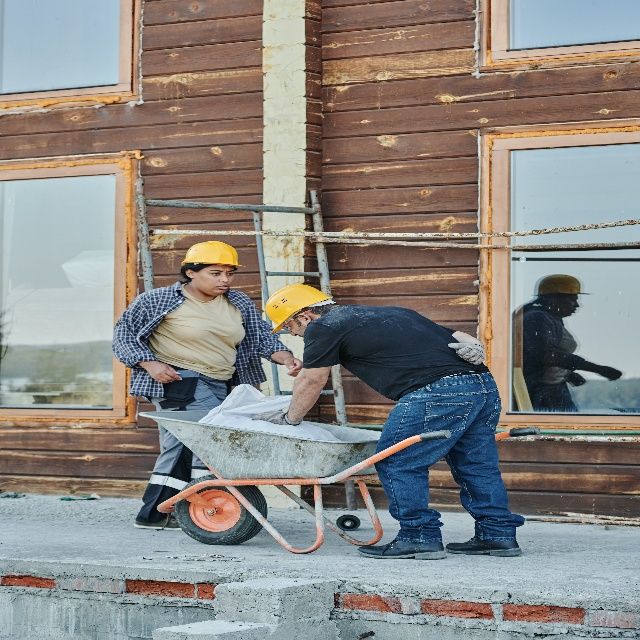Gafas: (281, 309, 311, 332)
Guantes: (447, 342, 486, 365), (251, 410, 303, 426)
Sin_guantes: (146, 360, 182, 384), (283, 356, 303, 377)
